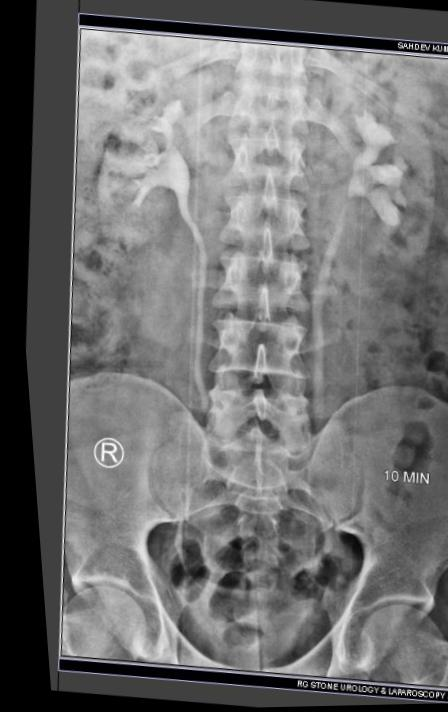left kidney: (302, 58, 447, 290)
right kidney: (29, 57, 177, 266)
vertebrae: (186, 108, 290, 180)
